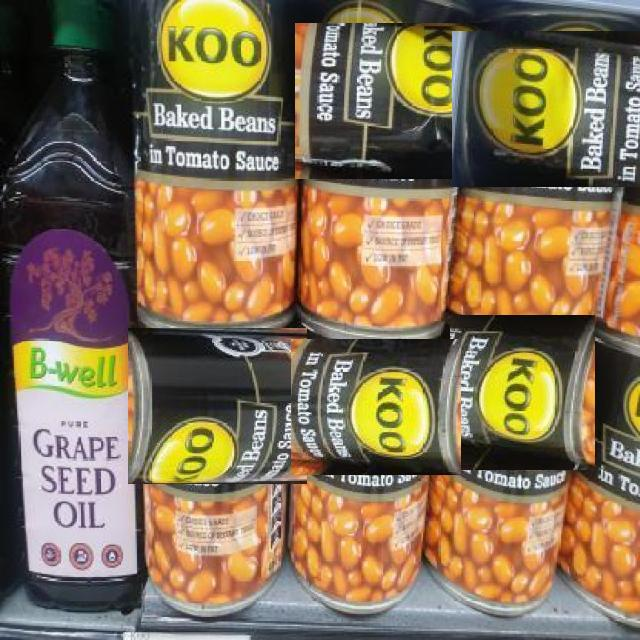Beans: (294, 24, 497, 179), (135, 11, 309, 186), (452, 30, 640, 187), (128, 328, 306, 484), (290, 340, 461, 475), (450, 316, 595, 470)
